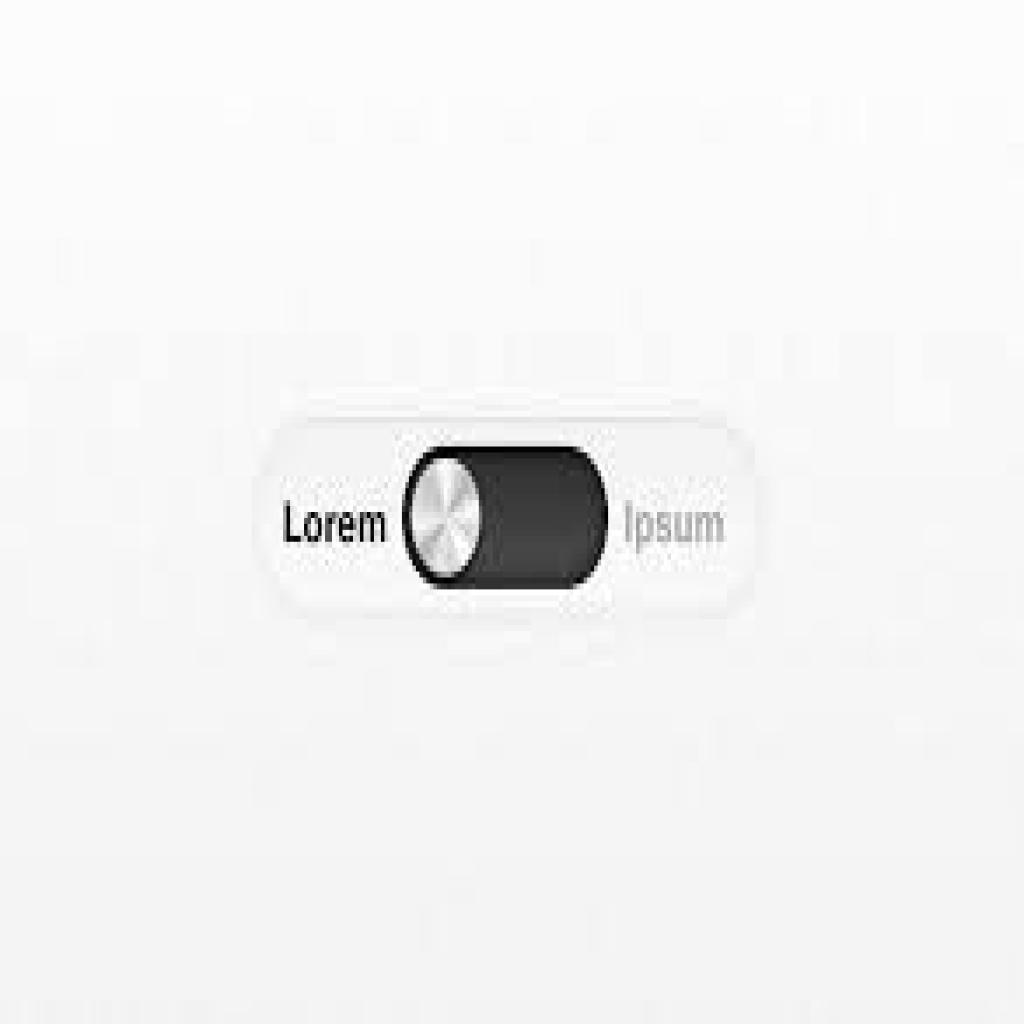switch: (403, 446, 610, 590)
